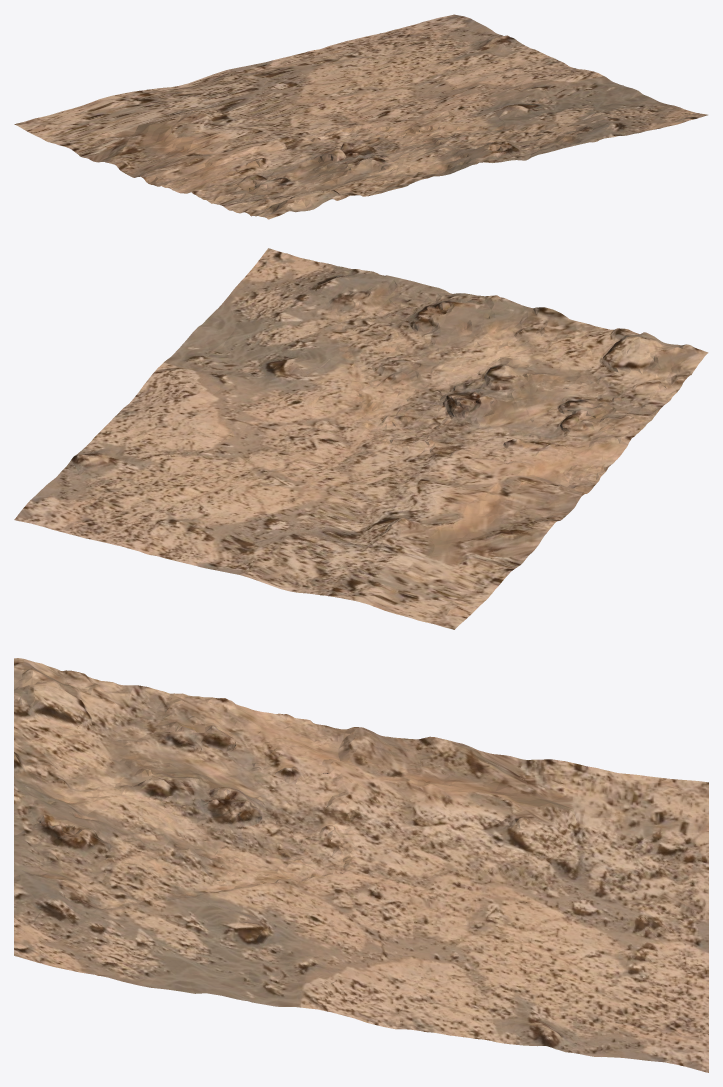
The picture shows the model from 3 angles, top to bottom: view 1: azimuth 30°, elevation 25°; view 2: azimuth 150°, elevation 25°; view 3: azimuth 270°, elevation 25°; orthographic projection. The views are drawn at different scales.
Bounding box in the file's own units: 4.18 × 0.8925 × 4.18.
2 materials, 2 textured.
